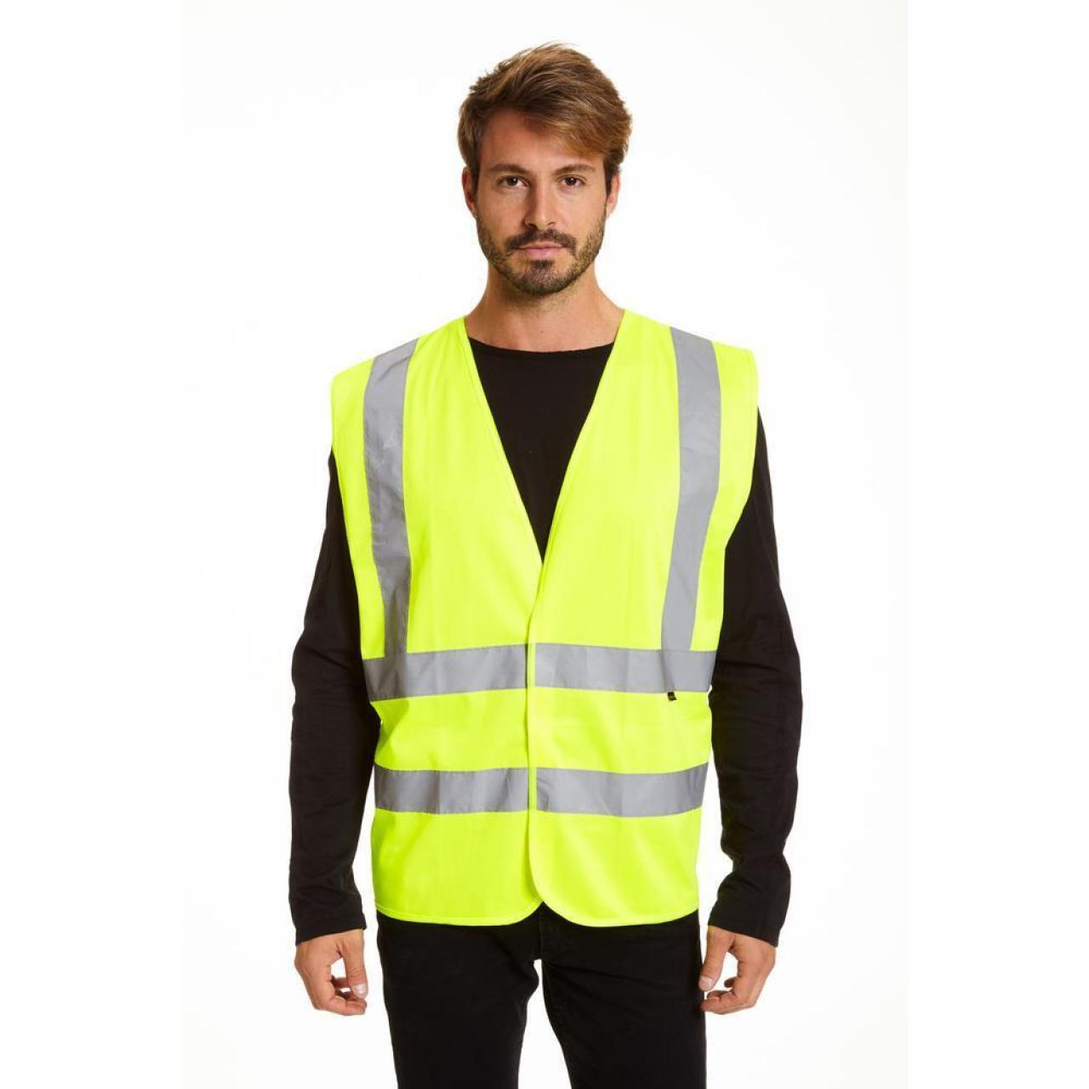Person: (251, 24, 839, 1088)
Safety_Vest: (313, 313, 767, 923)
